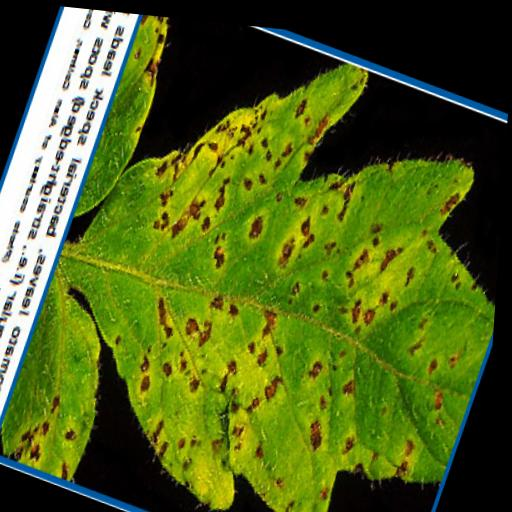Bacterial Spot: (0, 2, 512, 512)
